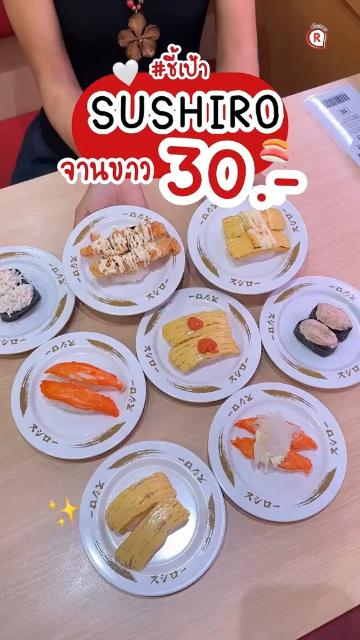janwhite: (209, 369, 360, 537), (77, 439, 212, 622), (20, 302, 153, 466), (58, 203, 179, 333), (142, 308, 291, 402), (11, 236, 85, 415), (255, 274, 360, 391), (194, 211, 229, 293)
